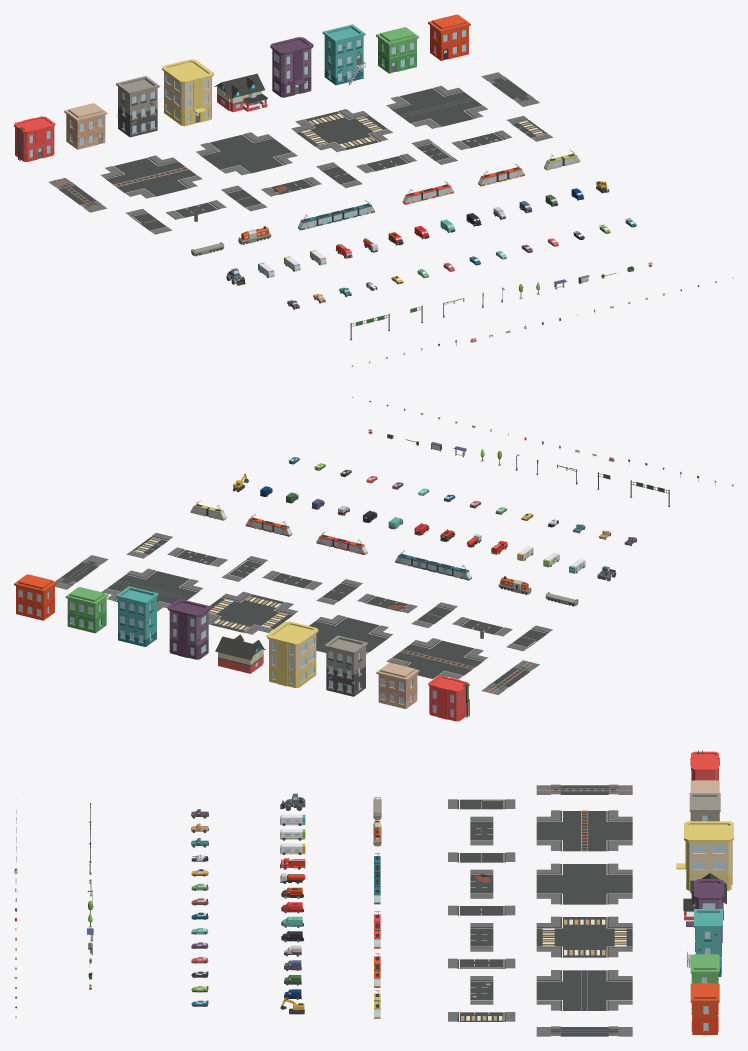
3 views of the same model, one above another, from view 1: azimuth 30°, elevation 25°; view 2: azimuth 150°, elevation 25°; view 3: azimuth 270°, elevation 25° (orthographic). The views are drawn at different scales.
Visible parts, largest first — view 1: Building_8, Road_Crossroads_3, Road_Crossroads_2, Road_Crossroads_4, Road_Crossroads_1, Building_7, Building_2, Building_3, Building_9, Building_5, Building_4, Building_6 (+4 smaller); view 2: Building_8, Road_Crossroads_1, Road_Crossroads_3, Building_7, Building_2, Building_3, Road_Crossroads_4, Road_Crossroads_2, Building_9, Building_6, Building_5, Building_4 (+12 smaller); view 3: Road_Crossroads_2, Road_Crossroads_3, Road_Crossroads_1, Road_Crossroads_4, Building_8, Building_4, Building_3, Road_Railroad_1, Road_Railroad_2, Building_7, Building_2, Building_6 (+11 smaller).
Part boxes in pixels (bbox=[...]): Building_8: bbox=[162, 59, 213, 126]; Road_Crossroads_3: bbox=[100, 155, 201, 198]; Road_Crossroads_2: bbox=[196, 132, 297, 175]; Road_Crossroads_4: bbox=[386, 85, 488, 128]; Road_Crossroads_1: bbox=[291, 109, 392, 151]; Building_7: bbox=[270, 37, 313, 97]; Building_2: bbox=[116, 76, 159, 137]; Building_3: bbox=[322, 24, 365, 85]; Building_9: bbox=[14, 116, 55, 161]; Building_5: bbox=[64, 103, 107, 149]; Building_4: bbox=[428, 14, 470, 60]; Building_6: bbox=[376, 27, 418, 73]; Building_8: bbox=[266, 621, 318, 687]; Road_Crossroads_1: bbox=[208, 591, 297, 634]; Road_Crossroads_3: bbox=[386, 638, 487, 679]; Building_7: bbox=[167, 599, 210, 659]; Building_2: bbox=[324, 635, 367, 696]; Building_3: bbox=[116, 586, 158, 646]; Road_Crossroads_4: bbox=[102, 568, 203, 611]; Road_Crossroads_2: bbox=[309, 615, 392, 653]; Building_9: bbox=[428, 676, 469, 721]; Building_6: bbox=[65, 587, 108, 633]; Building_5: bbox=[376, 662, 419, 708]; Building_4: bbox=[14, 574, 56, 620]; Road_Crossroads_2: bbox=[536, 863, 632, 904]; Road_Crossroads_3: bbox=[536, 810, 632, 851]; Road_Crossroads_1: bbox=[536, 916, 632, 957]; Road_Crossroads_4: bbox=[536, 970, 632, 1010]; Building_8: bbox=[676, 821, 733, 890]; Building_4: bbox=[690, 983, 719, 1034]; Building_3: bbox=[687, 909, 722, 976]; Road_Railroad_1: bbox=[536, 784, 632, 794]; Road_Railroad_2: bbox=[536, 1026, 632, 1036]; Building_7: bbox=[686, 879, 723, 942]; Building_2: bbox=[689, 793, 720, 821]; Building_6: bbox=[690, 954, 719, 983].
Bounding box in the file's own units: 2.6 × 0.3085 × 3.15.
Materials: 1 (1 with a texture image).
